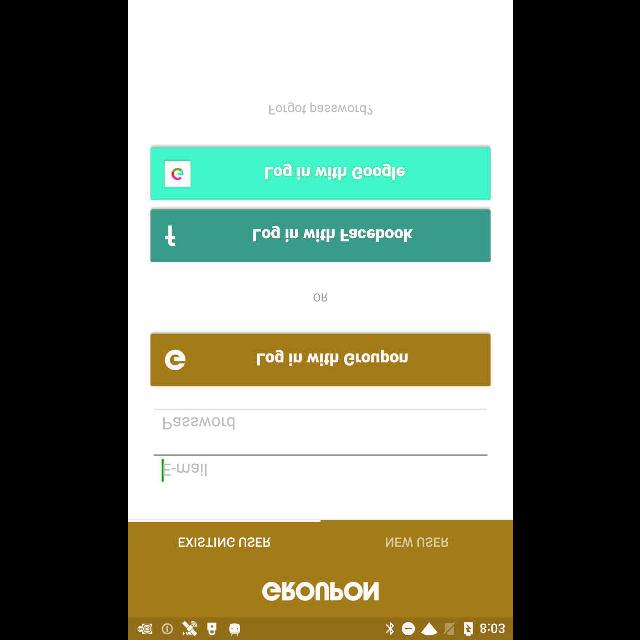input: (153, 454, 487, 482), (154, 408, 486, 430)
text: (262, 582, 378, 600), (268, 102, 372, 116), (162, 416, 234, 429), (178, 537, 270, 547), (162, 462, 206, 476), (384, 538, 448, 546), (313, 293, 327, 301)
textbutton: (150, 147, 490, 200), (150, 210, 490, 262), (150, 334, 490, 386)
uppertaskbar: (128, 617, 512, 639)
